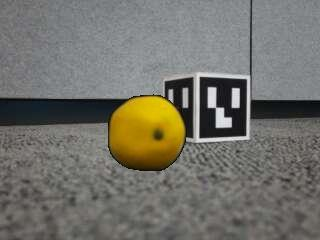lemon: (108, 95, 186, 171)
